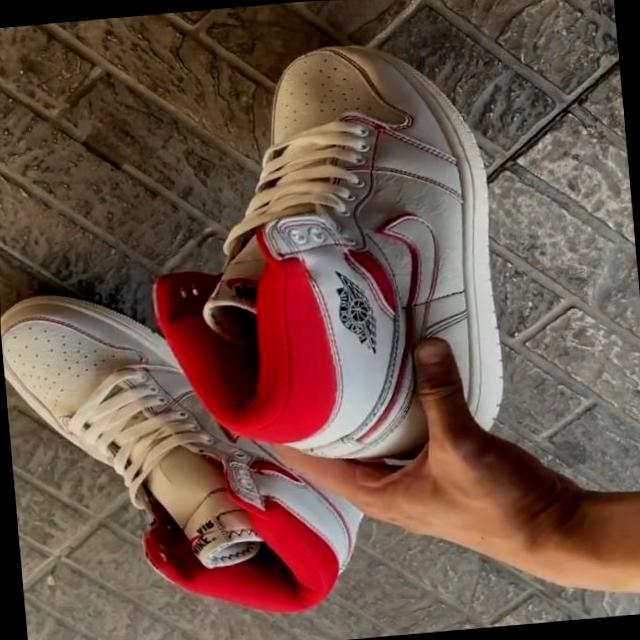nike_fake_jordan: (130, 26, 512, 482), (0, 269, 379, 636)
